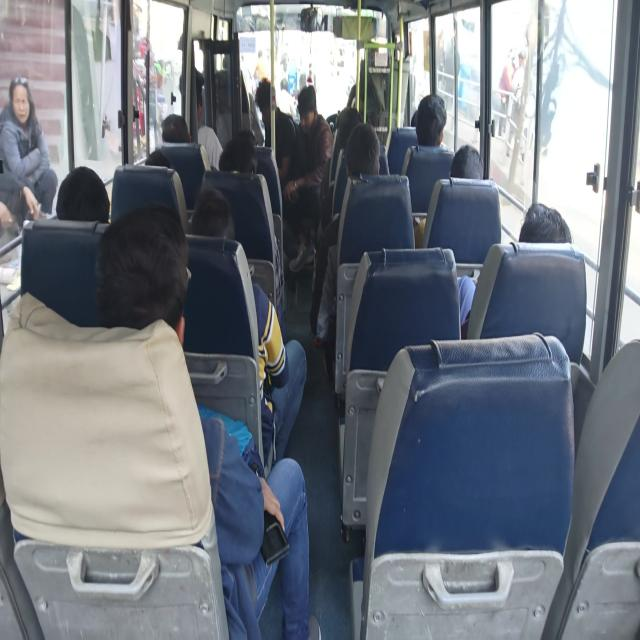person: (95, 202, 321, 638), (189, 186, 307, 469), (310, 122, 381, 344), (457, 201, 573, 328), (282, 84, 333, 272), (0, 74, 57, 226), (414, 144, 484, 248), (179, 66, 223, 170), (255, 78, 297, 180), (56, 165, 110, 223), (518, 202, 572, 244), (414, 93, 448, 149), (449, 143, 484, 180), (161, 113, 191, 143)
